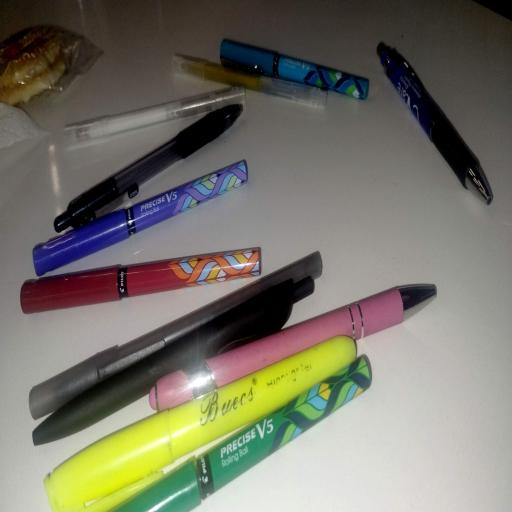pen: (45, 337, 355, 511), (29, 252, 322, 419), (33, 277, 313, 444), (112, 356, 371, 511), (150, 285, 436, 410), (33, 161, 247, 275), (54, 105, 242, 232), (377, 43, 493, 204), (21, 248, 260, 313), (64, 87, 245, 144), (221, 40, 368, 99), (172, 55, 326, 106)
